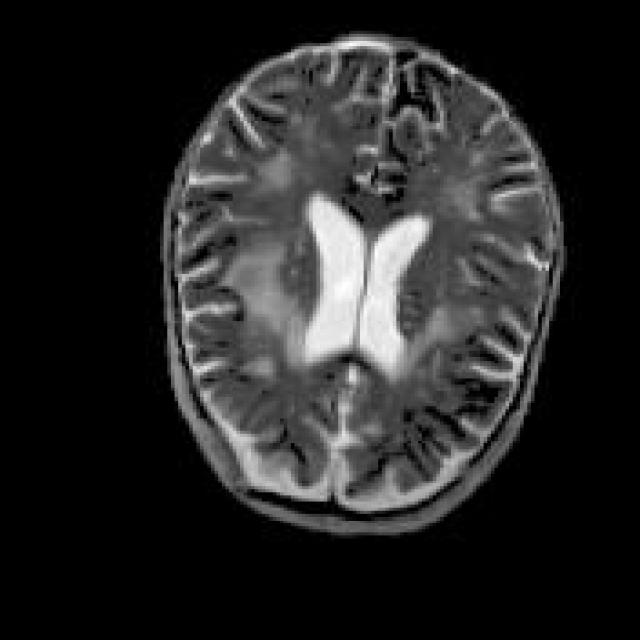CONTROL: (156, 28, 564, 535)
